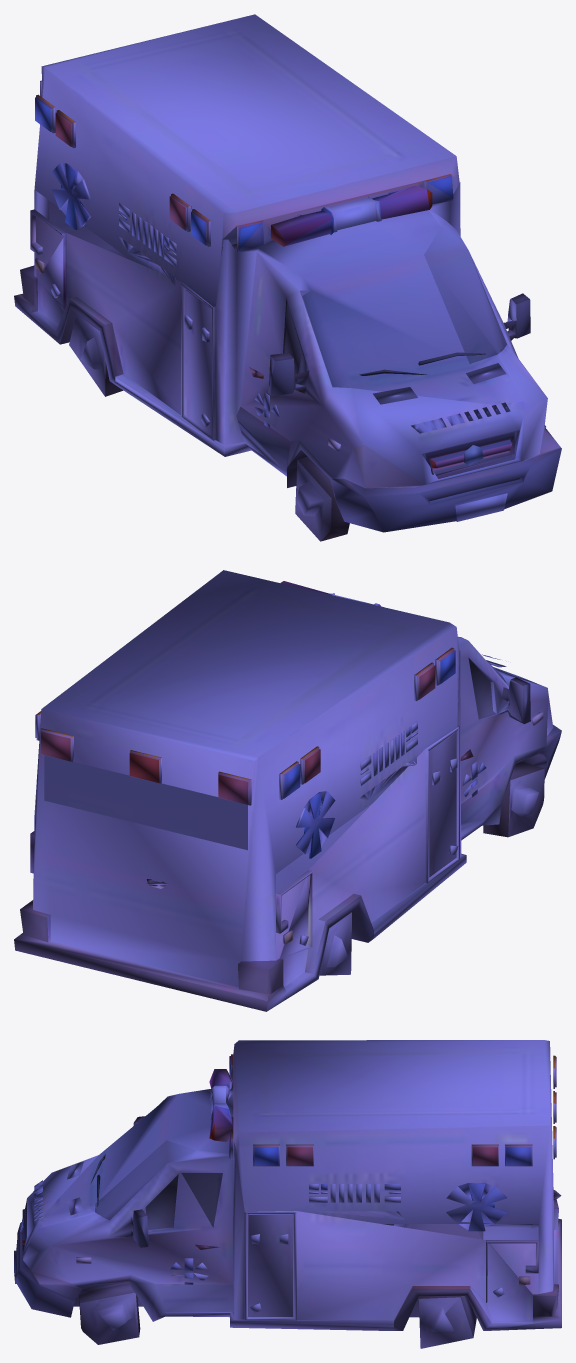
Rendered from model.progressive.glb.
3 renders of one model, top to bottom at view 1: azimuth 30°, elevation 25°; view 2: azimuth 150°, elevation 25°; view 3: azimuth 270°, elevation 25°, orthographic. The views are drawn at different scales.
Visible parts, largest first — view 1: material; view 2: material; view 3: material.
Boxes of the visible parts, bbox=[...] form: material: bbox=[14, 14, 561, 541]; material: bbox=[14, 570, 561, 1011]; material: bbox=[14, 1040, 561, 1348].
Bounding box in the file's own units: 0.8337 × 0.8357 × 1.88.
Materials: 1 (1 with a texture image).
